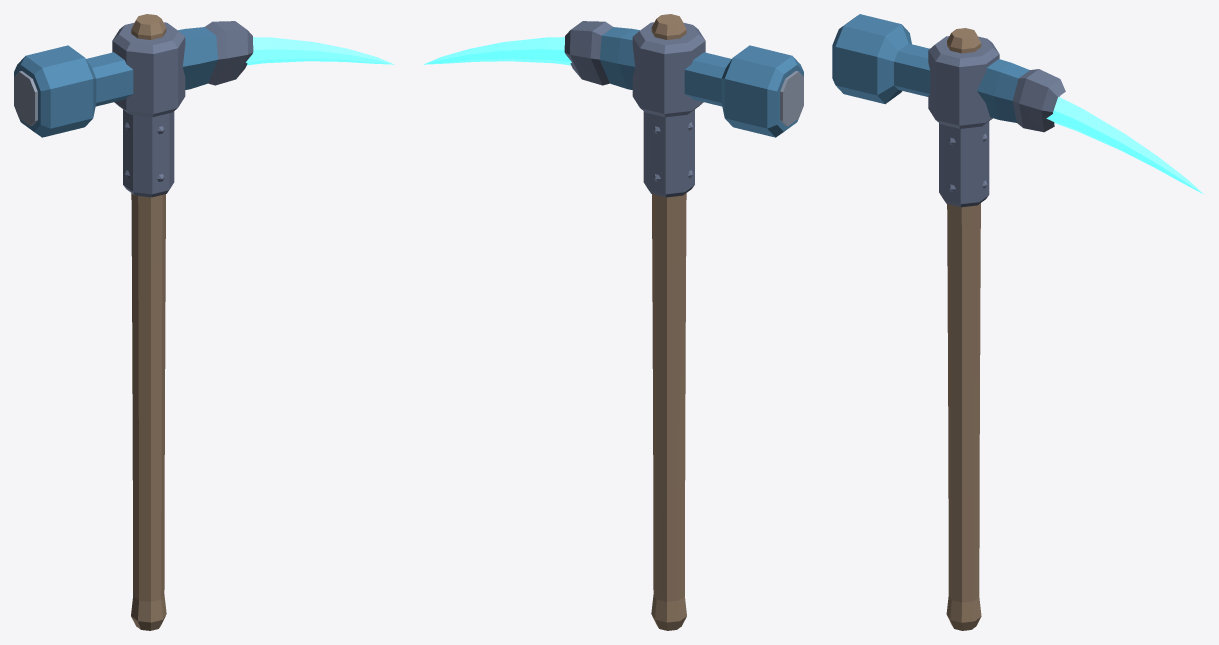
Rendered from war-pick-4cd4eb.glb.
The picture shows the model from 3 angles, left to right: view 1: azimuth 30°, elevation 25°; view 2: azimuth 150°, elevation 25°; view 3: azimuth 330°, elevation 25°; orthographic projection. The views are drawn at different scales.
Parts seen in each view (by area): view 1: head-metal, haft-matte, head-glow; view 2: head-metal, haft-matte, head-glow; view 3: head-metal, haft-matte, head-glow.
Boxes of the visible parts, x1,y1,x2,y2 form: head-metal: (14,21,253,197); haft-matte: (131,14,166,630); head-glow: (246,37,394,65); head-metal: (564,21,803,197); haft-matte: (651,14,686,630); head-glow: (423,37,571,65); head-metal: (832,14,1065,207); haft-matte: (946,28,981,630); head-glow: (1046,97,1203,194).
Size of the model in its own units: 0.5117 by 0.8 by 0.0813.
